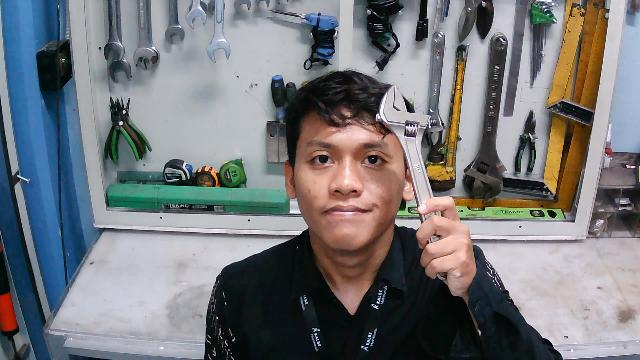kunci_inggris: (374, 87, 465, 283)
